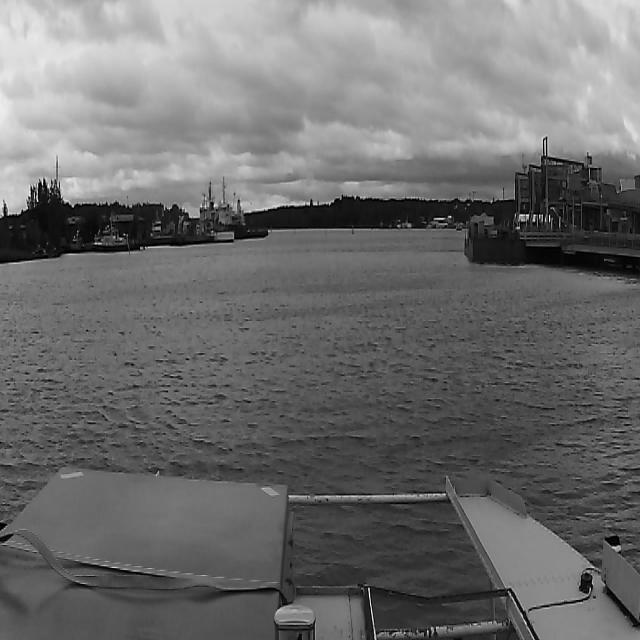buoy: (352, 224, 354, 235)
ship: (196, 180, 234, 244)
